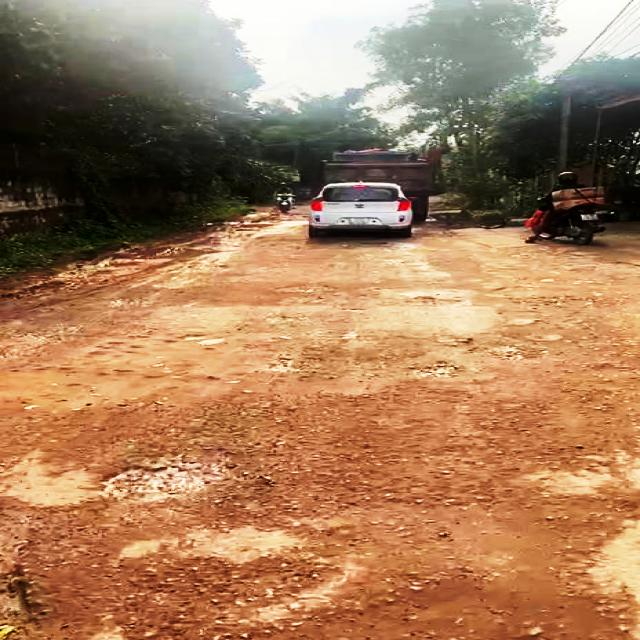pothole: (276, 507, 603, 640), (0, 499, 134, 640), (104, 447, 260, 515), (405, 362, 465, 380), (481, 344, 538, 362)
